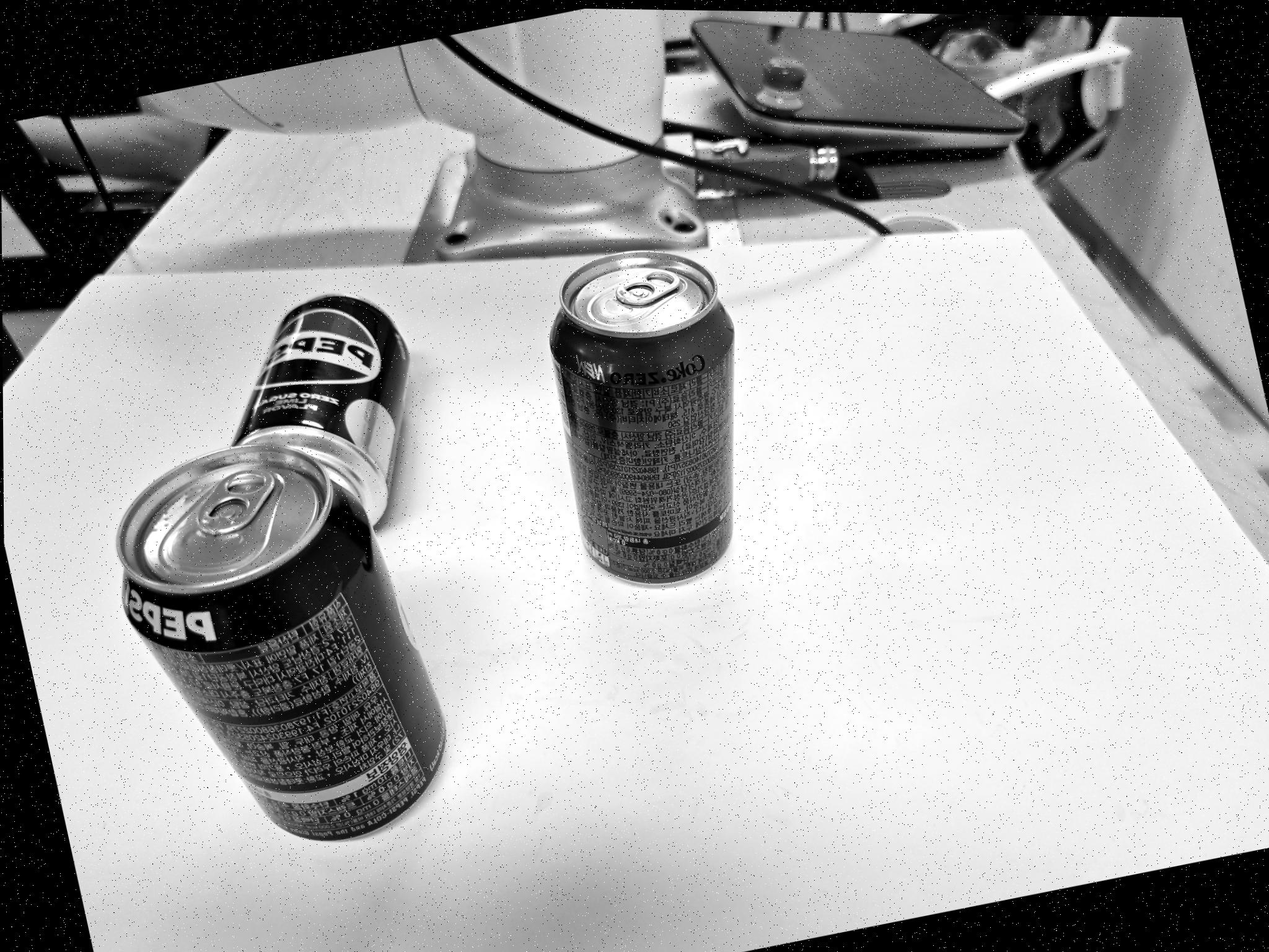can_coke_zero: (550, 253, 734, 582)
can_pepsi: (117, 445, 446, 840)
can_pepsi_zero: (234, 295, 409, 519)
